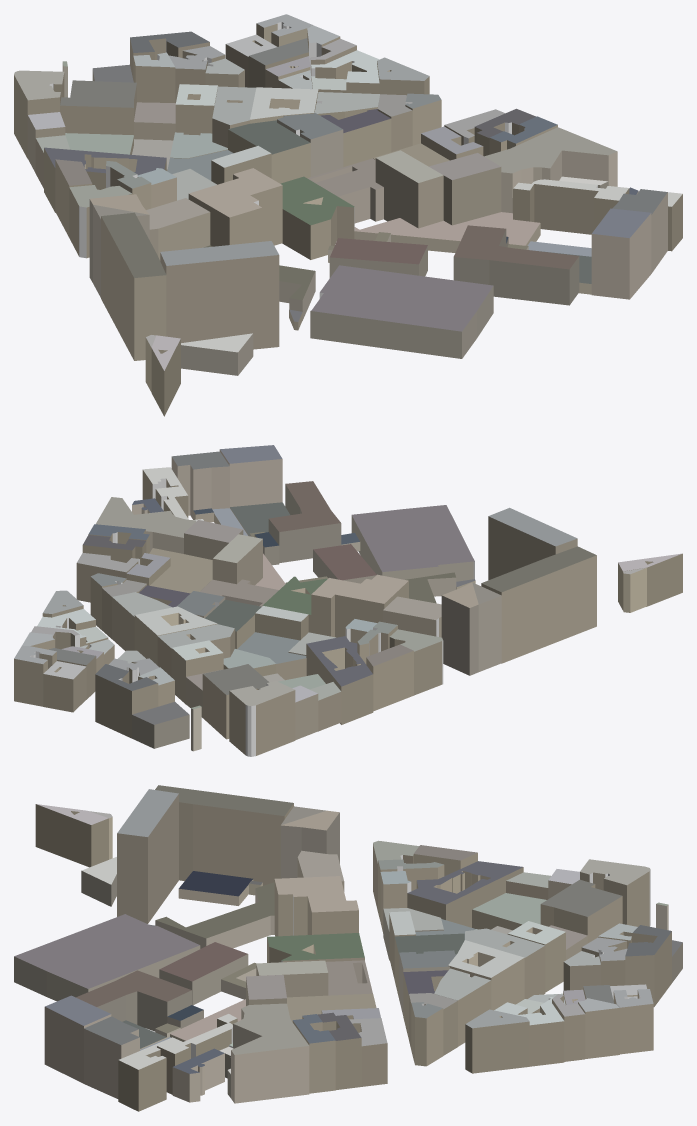
3 views of the same model, one above another, from view 1: azimuth 30°, elevation 25°; view 2: azimuth 150°, elevation 25°; view 3: azimuth 270°, elevation 25° (orthographic). The views are drawn at different scales.
Parts seen in each view (by area): view 1: tuile; view 2: tuile; view 3: tuile.
Boxes of the visible parts, left/top/right/bottom form: tuile: left=14, top=14, right=682, bottom=416; tuile: left=14, top=445, right=682, bottom=756; tuile: left=14, top=785, right=682, bottom=1111.
Bounding box in the file's own units: 259 × 41.21 × 278.
